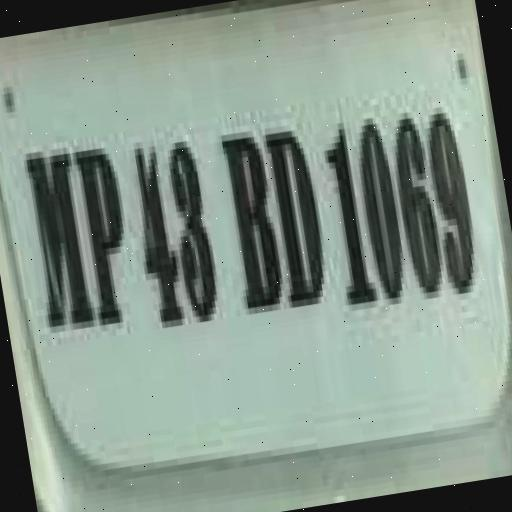number plate: (0, 0, 509, 479)
